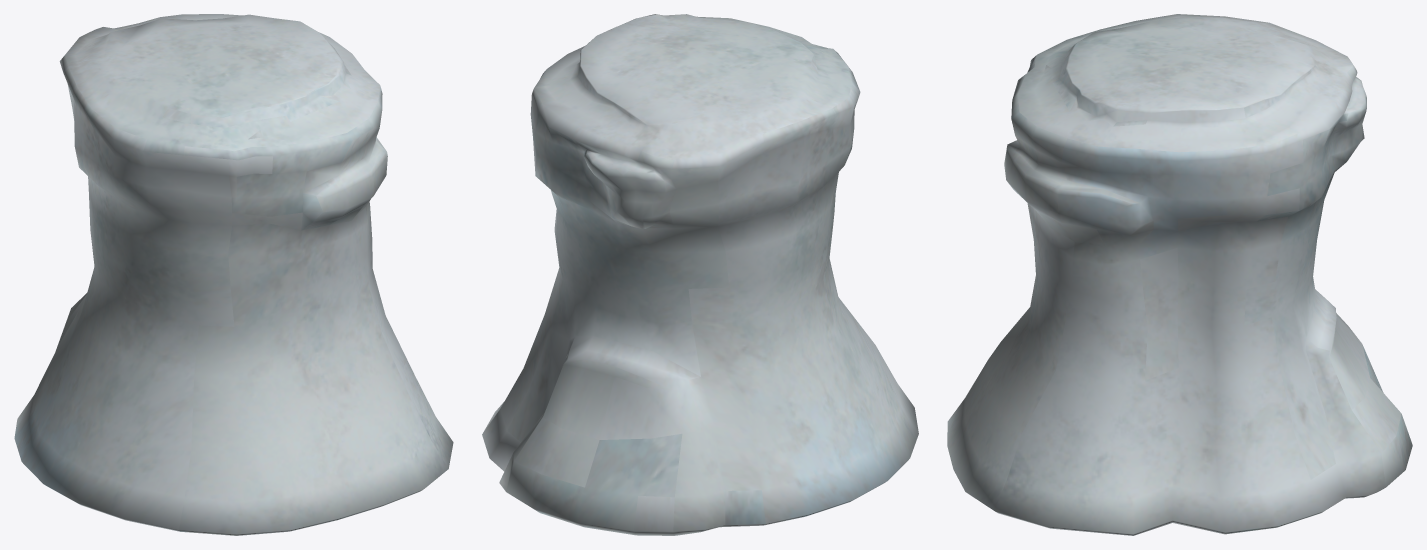
File: P_RockDesert_CliffB05.obj
3 views of the same model, side by side, from view 1: azimuth 30°, elevation 25°; view 2: azimuth 150°, elevation 25°; view 3: azimuth 270°, elevation 25° (orthographic).
Bounding box in the file's own units: 55.54 × 56.95 × 60.3.
